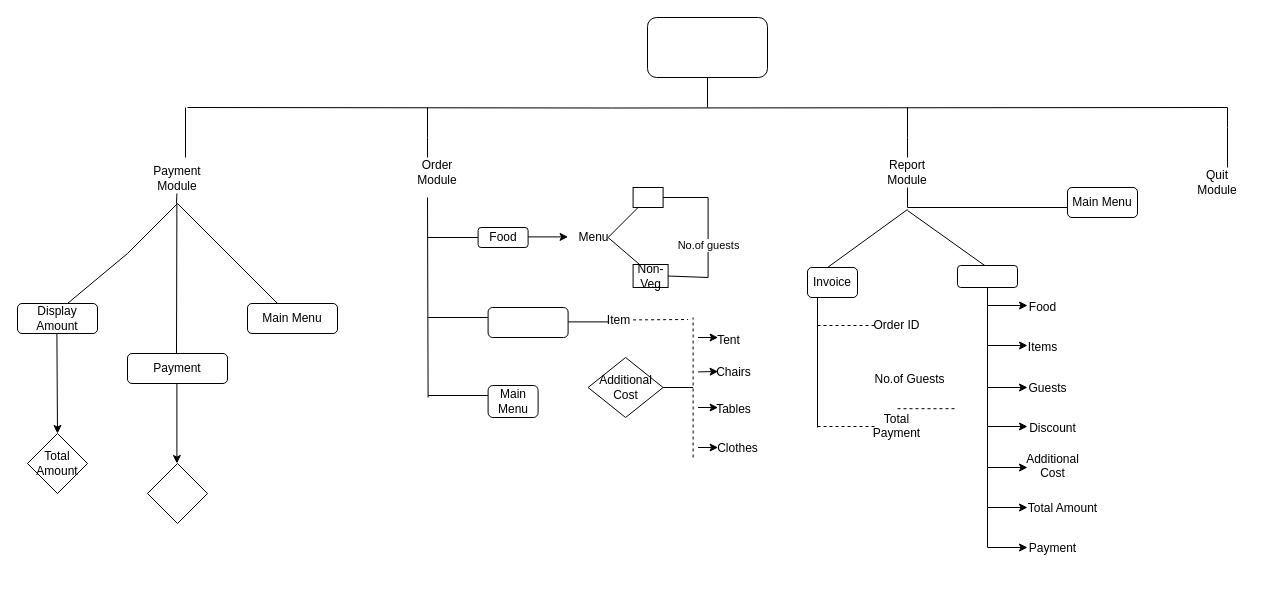
Image size: 1265x593. Some labels were removed from this diagram. The shapes that lost their labels are listed below. From the top down, each one's centre as x and y in pixels, then its label:
At point (707, 47): "Wedding Management".
At point (647, 197): "Veg".
At point (987, 276): "Summary".
At point (527, 322): "Other Services".
At point (177, 493): "Make Payment".
